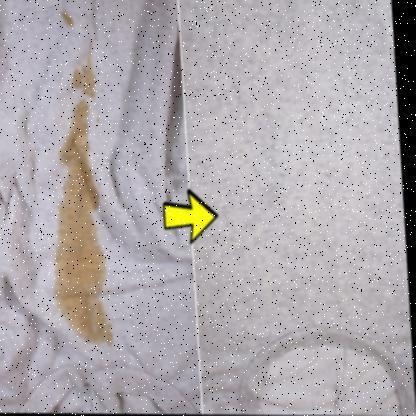coffee: (57, 181, 104, 333), (74, 114, 87, 173)
